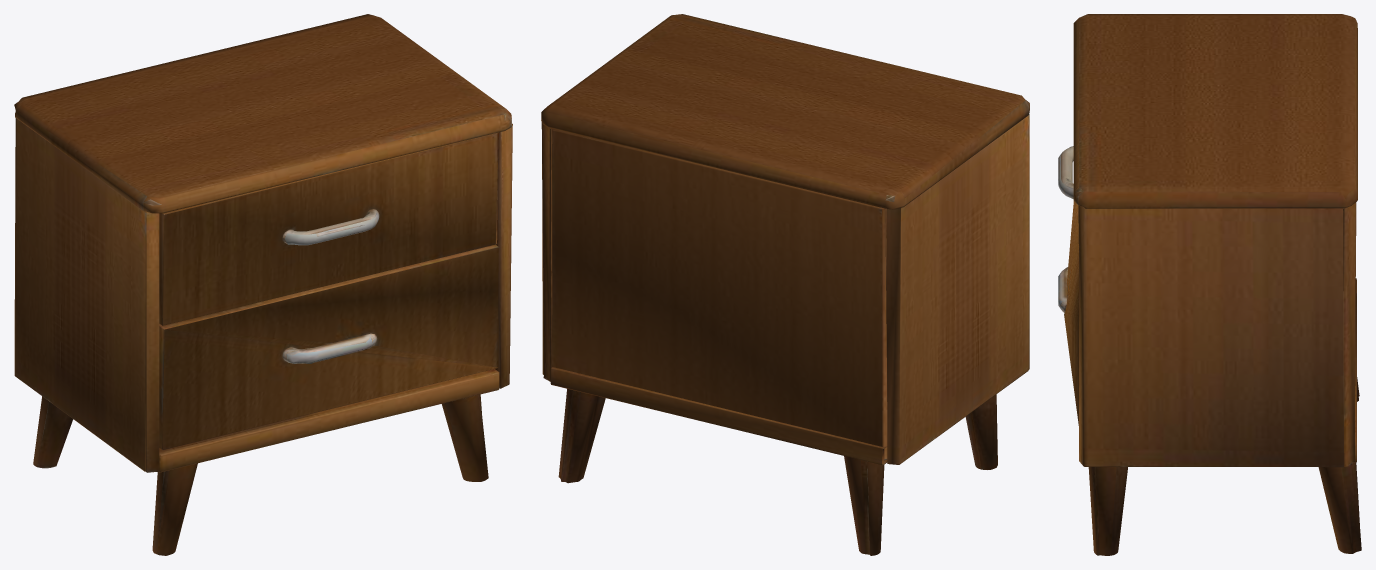
Rendered from bedside__2.glb.
3 renders of one model, left to right at view 1: azimuth 30°, elevation 25°; view 2: azimuth 150°, elevation 25°; view 3: azimuth 270°, elevation 25°, orthographic. The views are drawn at different scales.
Parts seen in each view (by area): view 1: Mesh_0.097; view 2: Mesh_0.097; view 3: Mesh_0.097.
Part boxes in pixels (left/top/right/bottom): Mesh_0.097: left=14, top=14, right=512, bottom=555; Mesh_0.097: left=541, top=14, right=1029, bottom=555; Mesh_0.097: left=1058, top=14, right=1361, bottom=555.
Bounding box in the file's own units: 0.6717 × 0.6458 × 0.4758.
Materials: 1 (1 with a texture image).
